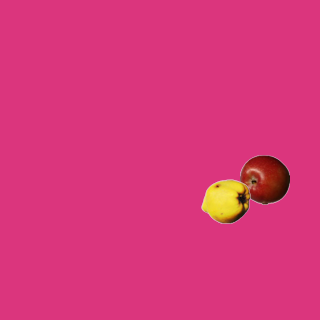Apple Braeburn: (239, 154, 289, 204)
Quince: (200, 176, 250, 226)
